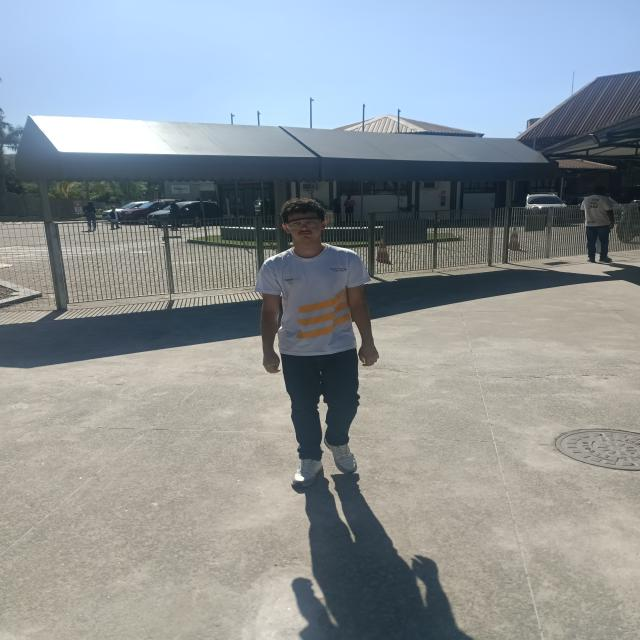oculos-epi: (286, 218, 321, 230)
